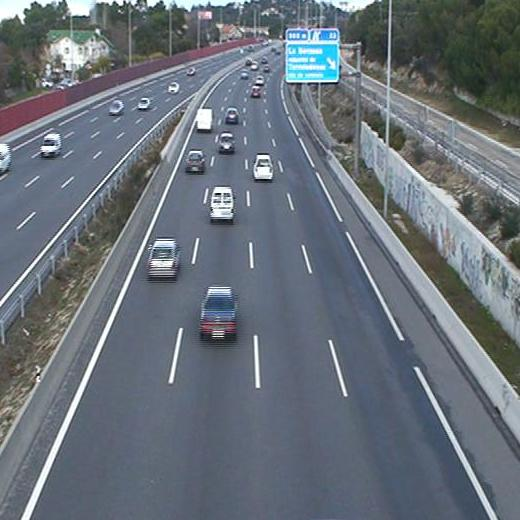car: (199, 286, 237, 342), (146, 240, 178, 277), (254, 153, 272, 180), (184, 150, 205, 172), (218, 132, 234, 152), (225, 108, 239, 124), (250, 85, 261, 98), (240, 69, 249, 82)
van: (209, 186, 233, 220), (195, 107, 212, 130)
